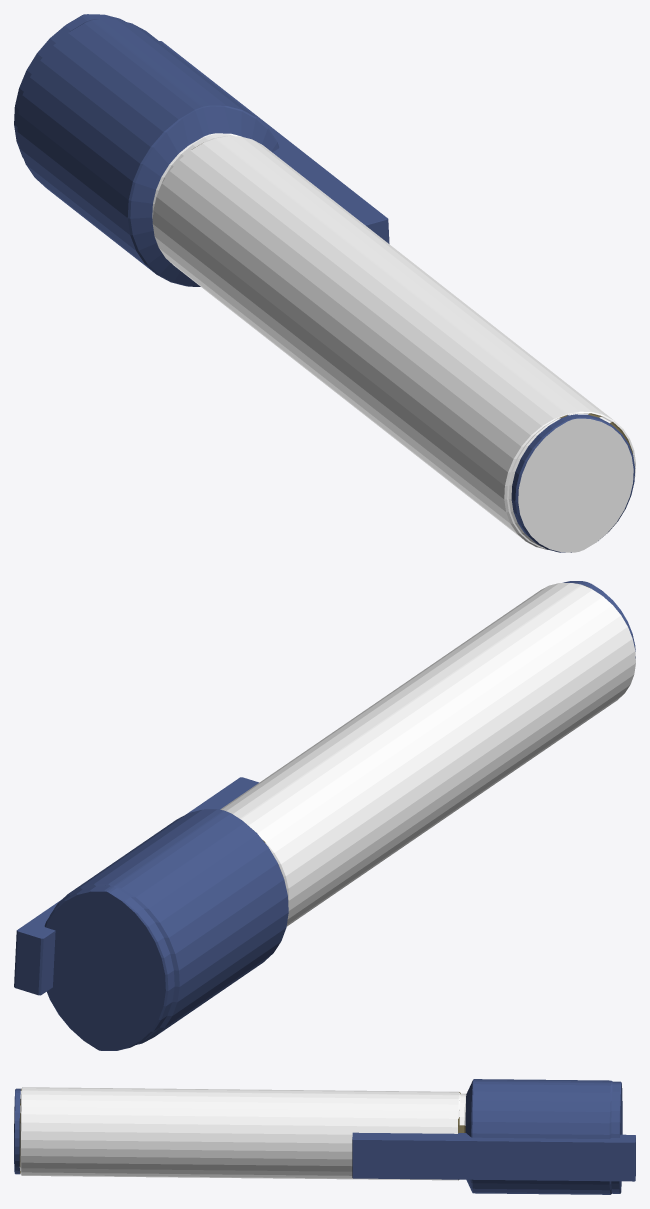
File: pen 4.fbx
3 views of the same model, one above another, from view 1: azimuth 30°, elevation 25°; view 2: azimuth 150°, elevation 25°; view 3: azimuth 270°, elevation 25° (orthographic). The views are drawn at different scales.
Visible parts, largest first — view 1: Cube.003; view 2: Cube.003; view 3: Cube.003.
Part boxes in pixels (<box>): Cube.003: <box>14,14,635,552</box>; Cube.003: <box>14,581,635,1050</box>; Cube.003: <box>14,1079,635,1194</box>.
Size of the model in its own units: 12 by 11.7 by 61.68.
